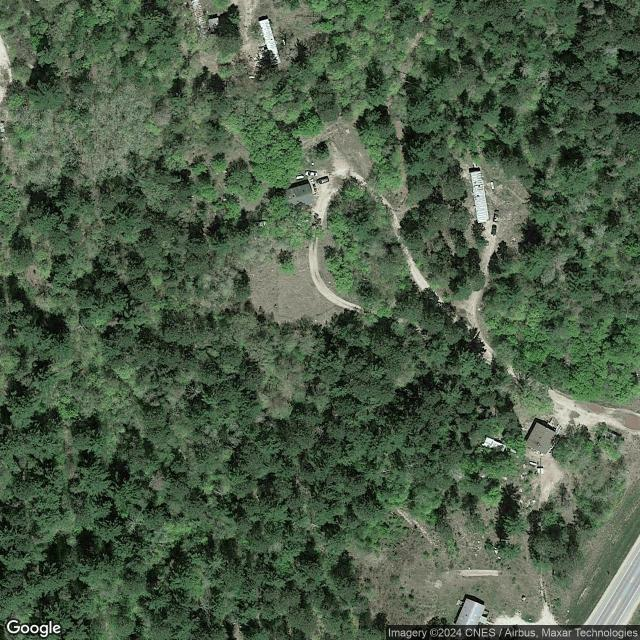Propane: (527, 460, 538, 467), (490, 180, 495, 190), (248, 76, 255, 79)
